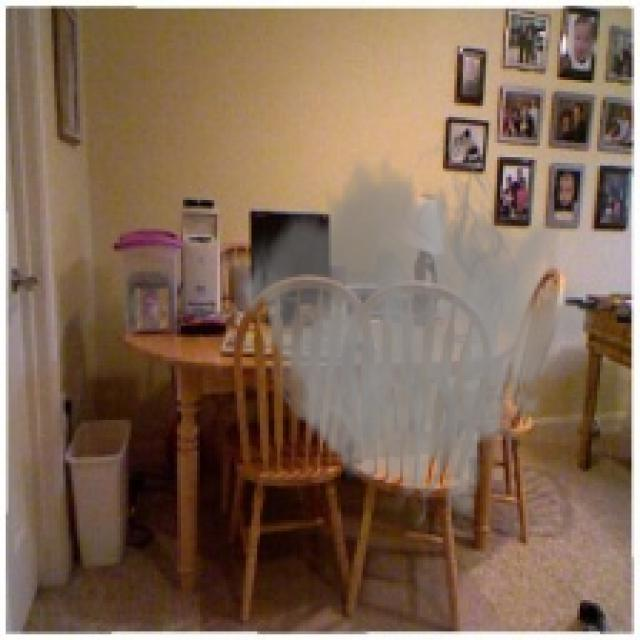smoke: (240, 126, 597, 534)
